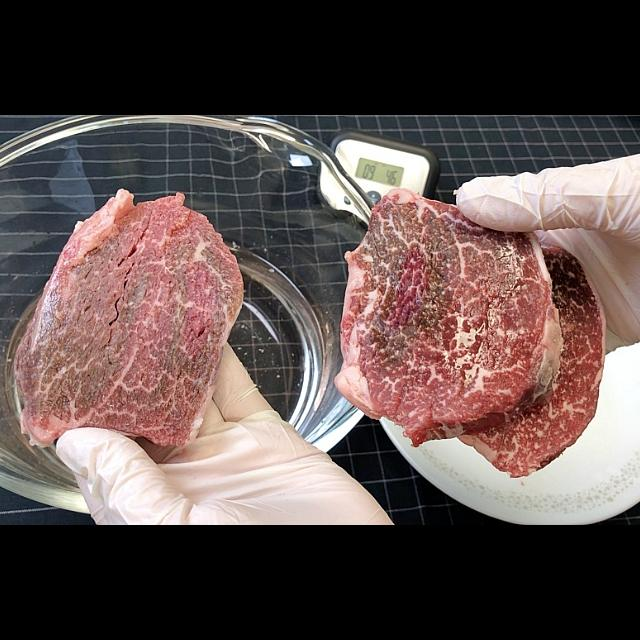beef: (13, 188, 245, 450), (333, 187, 561, 446)
